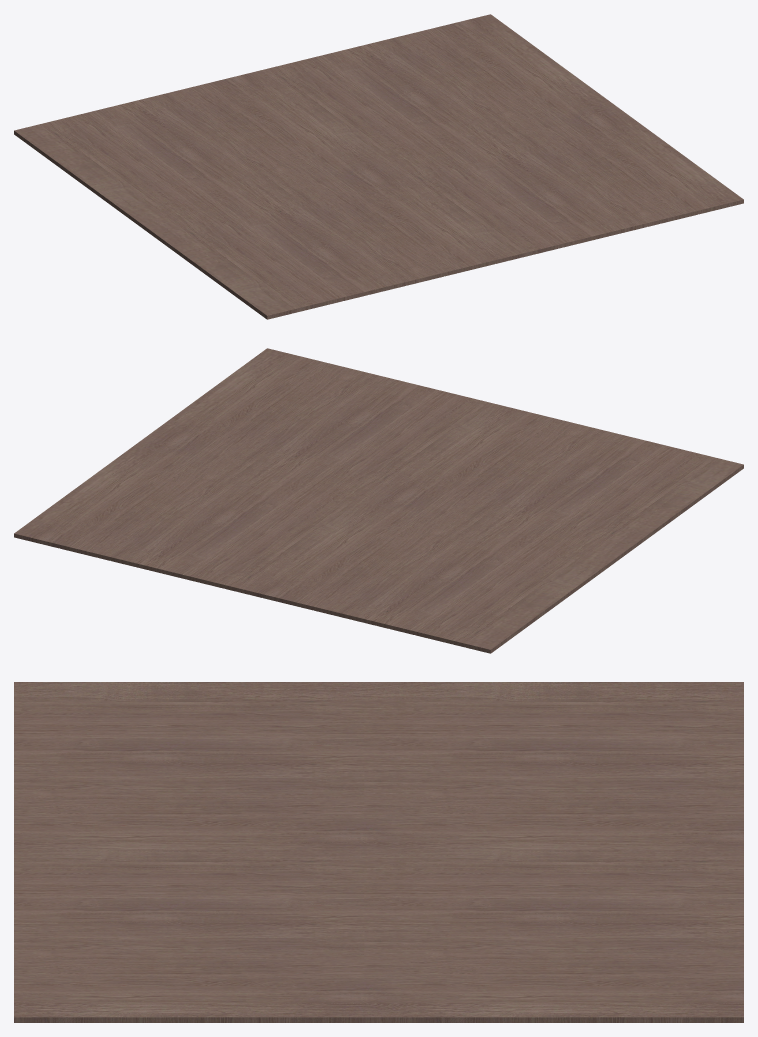
3 views of the same model, one above another, from view 1: azimuth 30°, elevation 25°; view 2: azimuth 150°, elevation 25°; view 3: azimuth 270°, elevation 25° (orthographic). The views are drawn at different scales.
Parts seen in each view (by area): view 1: ST-屋顶; view 2: ST-屋顶; view 3: ST-屋顶.
Boxes of the visible parts, x1=… form: ST-屋顶: x1=14, y1=14, x2=743, y2=319; ST-屋顶: x1=14, y1=348, x2=743, y2=653; ST-屋顶: x1=14, y1=682, x2=743, y2=1022.
Size of the model in its own units: 7.46 by 6.87 by 0.1578.
